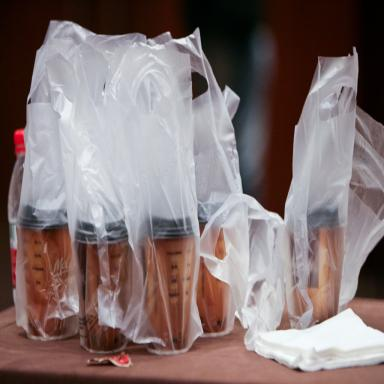plasticbag: (12, 14, 384, 357)
